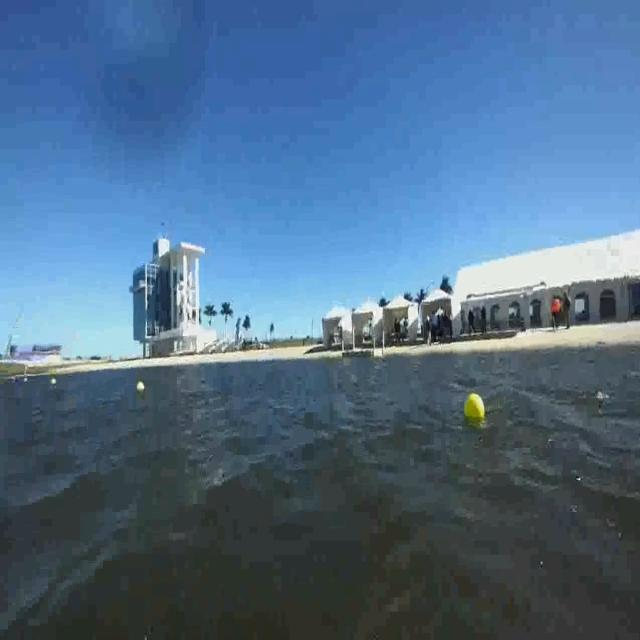yellow-buoy: (466, 393, 487, 422)
